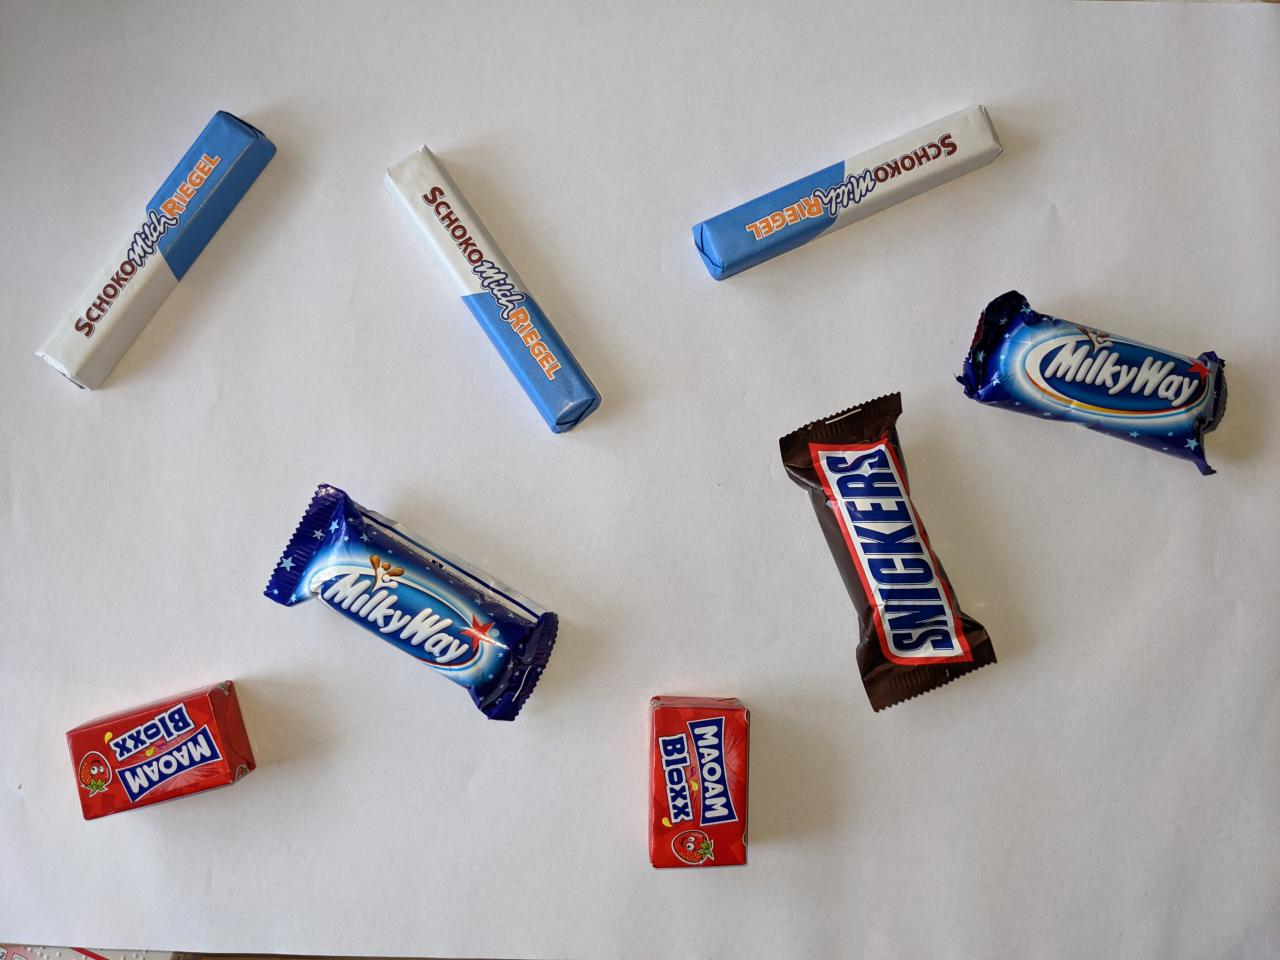MAOAM: (60, 674, 264, 826), (638, 688, 759, 879)
MilkyWay: (255, 477, 568, 728), (948, 283, 1237, 487)
Schokoriegel: (27, 100, 284, 398), (376, 134, 606, 439), (682, 97, 1013, 289)
Snickers: (773, 387, 1007, 722)
